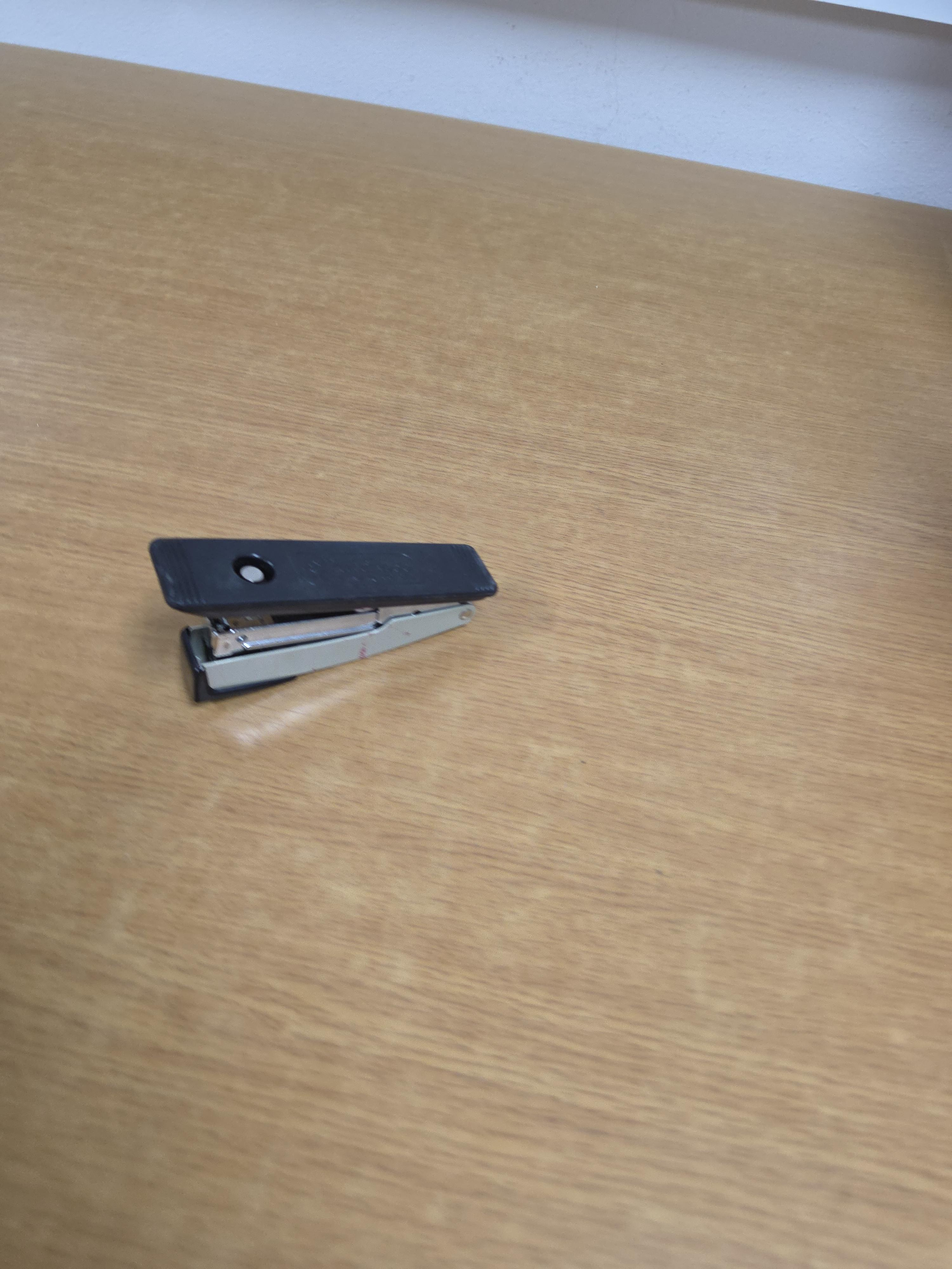stapler: (148, 535, 499, 705)
